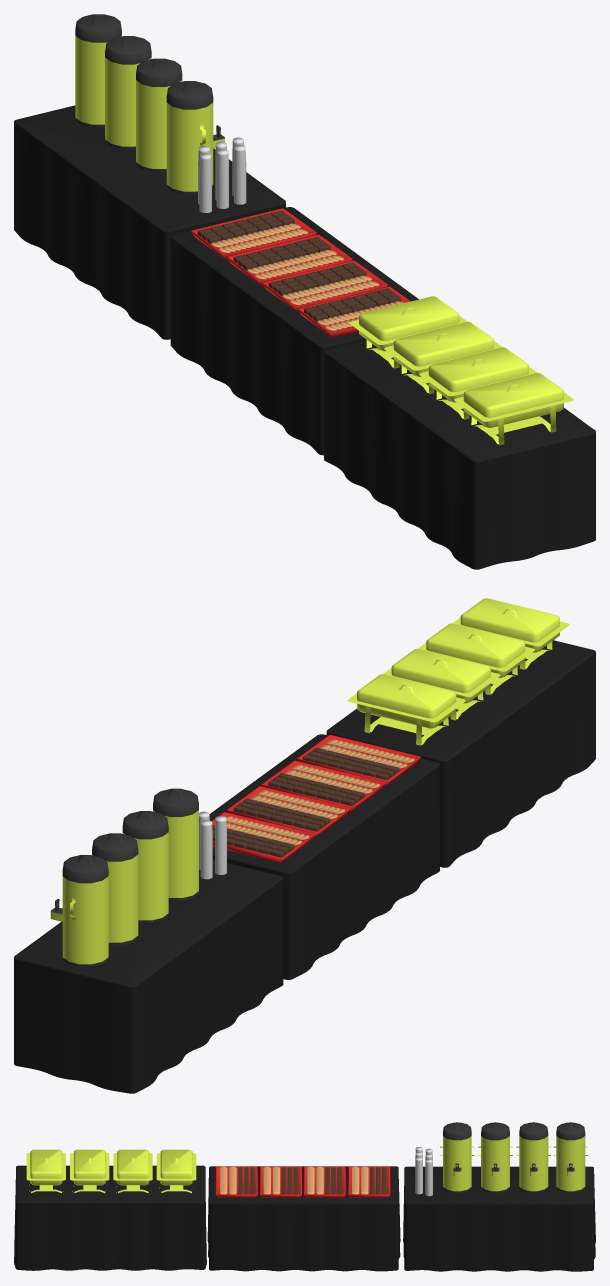
Rendered from banquet.fbx.
The picture shows the model from 3 angles, top to bottom: view 1: azimuth 30°, elevation 25°; view 2: azimuth 150°, elevation 25°; view 3: azimuth 270°, elevation 25°; orthographic projection. The views are drawn at different scales.
Visible parts, largest first — view 1: Cube.1032_Cube.1477; view 2: Cube.1032_Cube.1477; view 3: Cube.1032_Cube.1477.
Boxes of the visible parts, bbox=[...] form: Cube.1032_Cube.1477: bbox=[14, 14, 595, 569]; Cube.1032_Cube.1477: bbox=[14, 598, 595, 1093]; Cube.1032_Cube.1477: bbox=[14, 1122, 595, 1271].
Size of the model in its own units: 210 by 321 by 1298.
